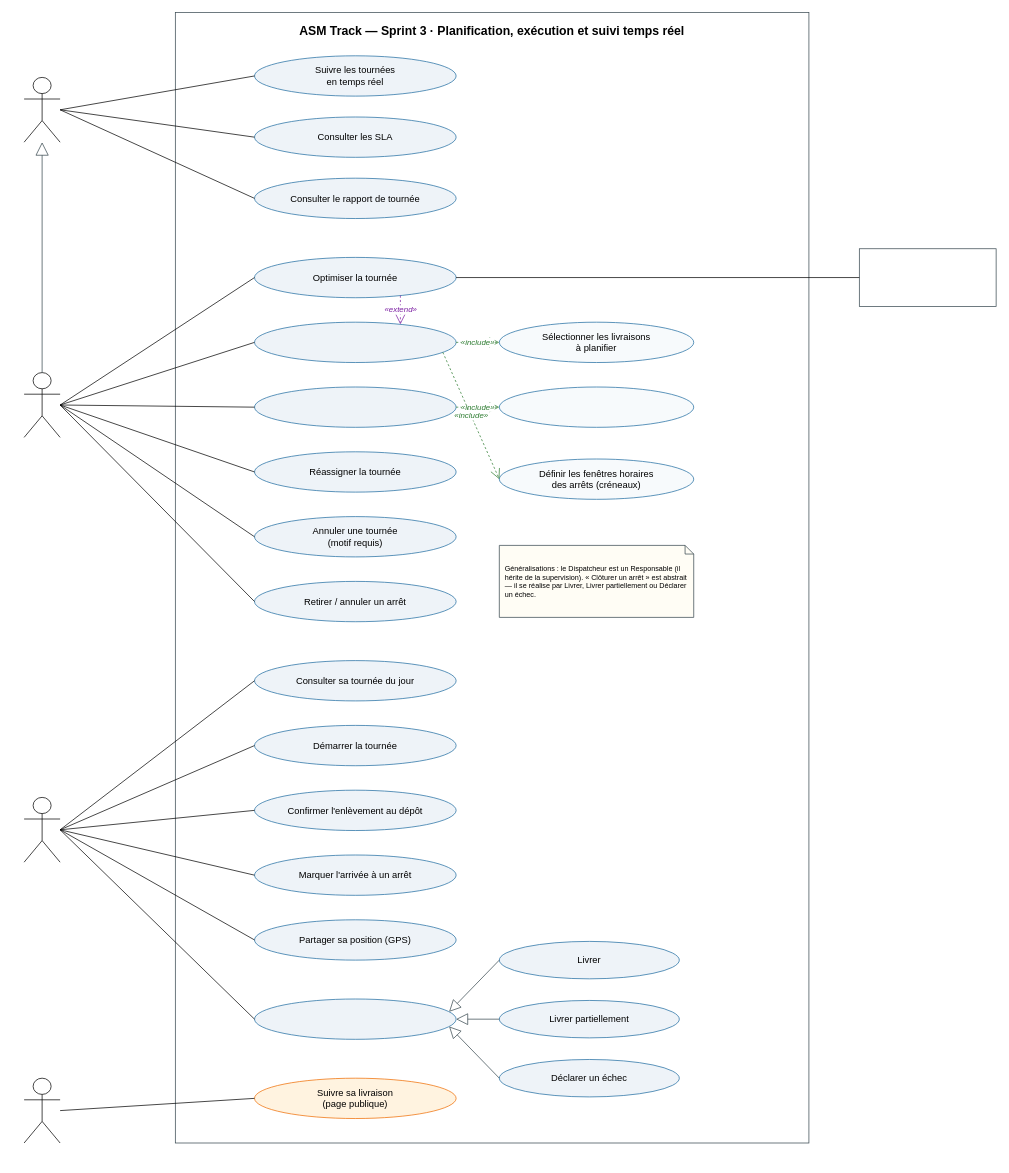
This 1009x1173 diagram has some shape labels left out. Each missing label, with the box of its shape:
Chauffeur: (23, 797, 60, 862)
Clôturer un arrêt: (254, 998, 456, 1039)
Construire une tournée: (254, 321, 456, 363)
Destinataire: (23, 1077, 60, 1143)
Dispatcheur: (23, 372, 60, 437)
Responsable (supervision): (23, 77, 60, 142)
Valider la tournée: (254, 386, 456, 427)
Vérifier la précédence enlèvement → livraison: (499, 386, 694, 427)
« système externe » OSRM (moteur d'itinéraire): (859, 248, 996, 306)
